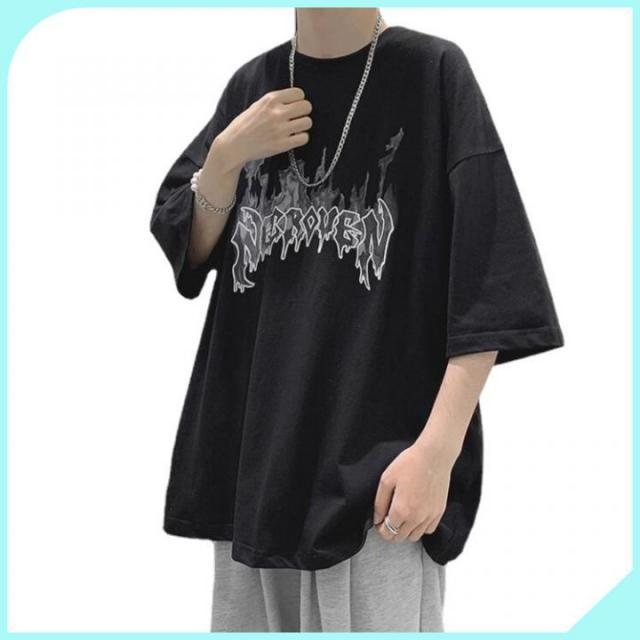Shirt: (143, 22, 567, 574)
